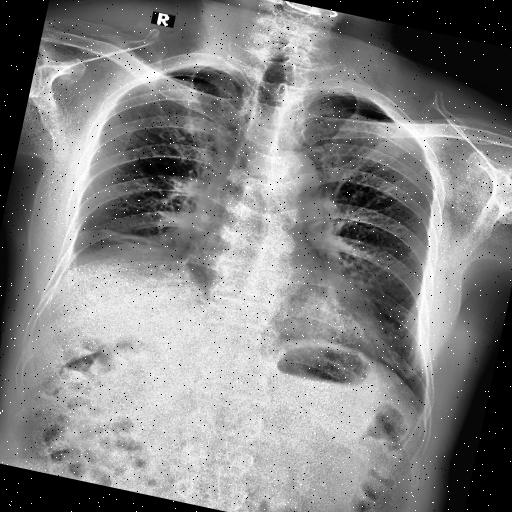0- Aortic enlargement: (243, 142, 332, 218), (265, 146, 334, 218), (264, 147, 324, 199)
10- Pleural effusion: (57, 224, 139, 310)
13- Pulmonary fibrosis: (42, 208, 174, 302), (82, 222, 184, 256), (98, 222, 155, 248)
3- Cardiomegaly: (162, 230, 402, 374), (164, 248, 392, 365), (163, 248, 389, 358)
7- Lung Opacity: (75, 224, 139, 265)
